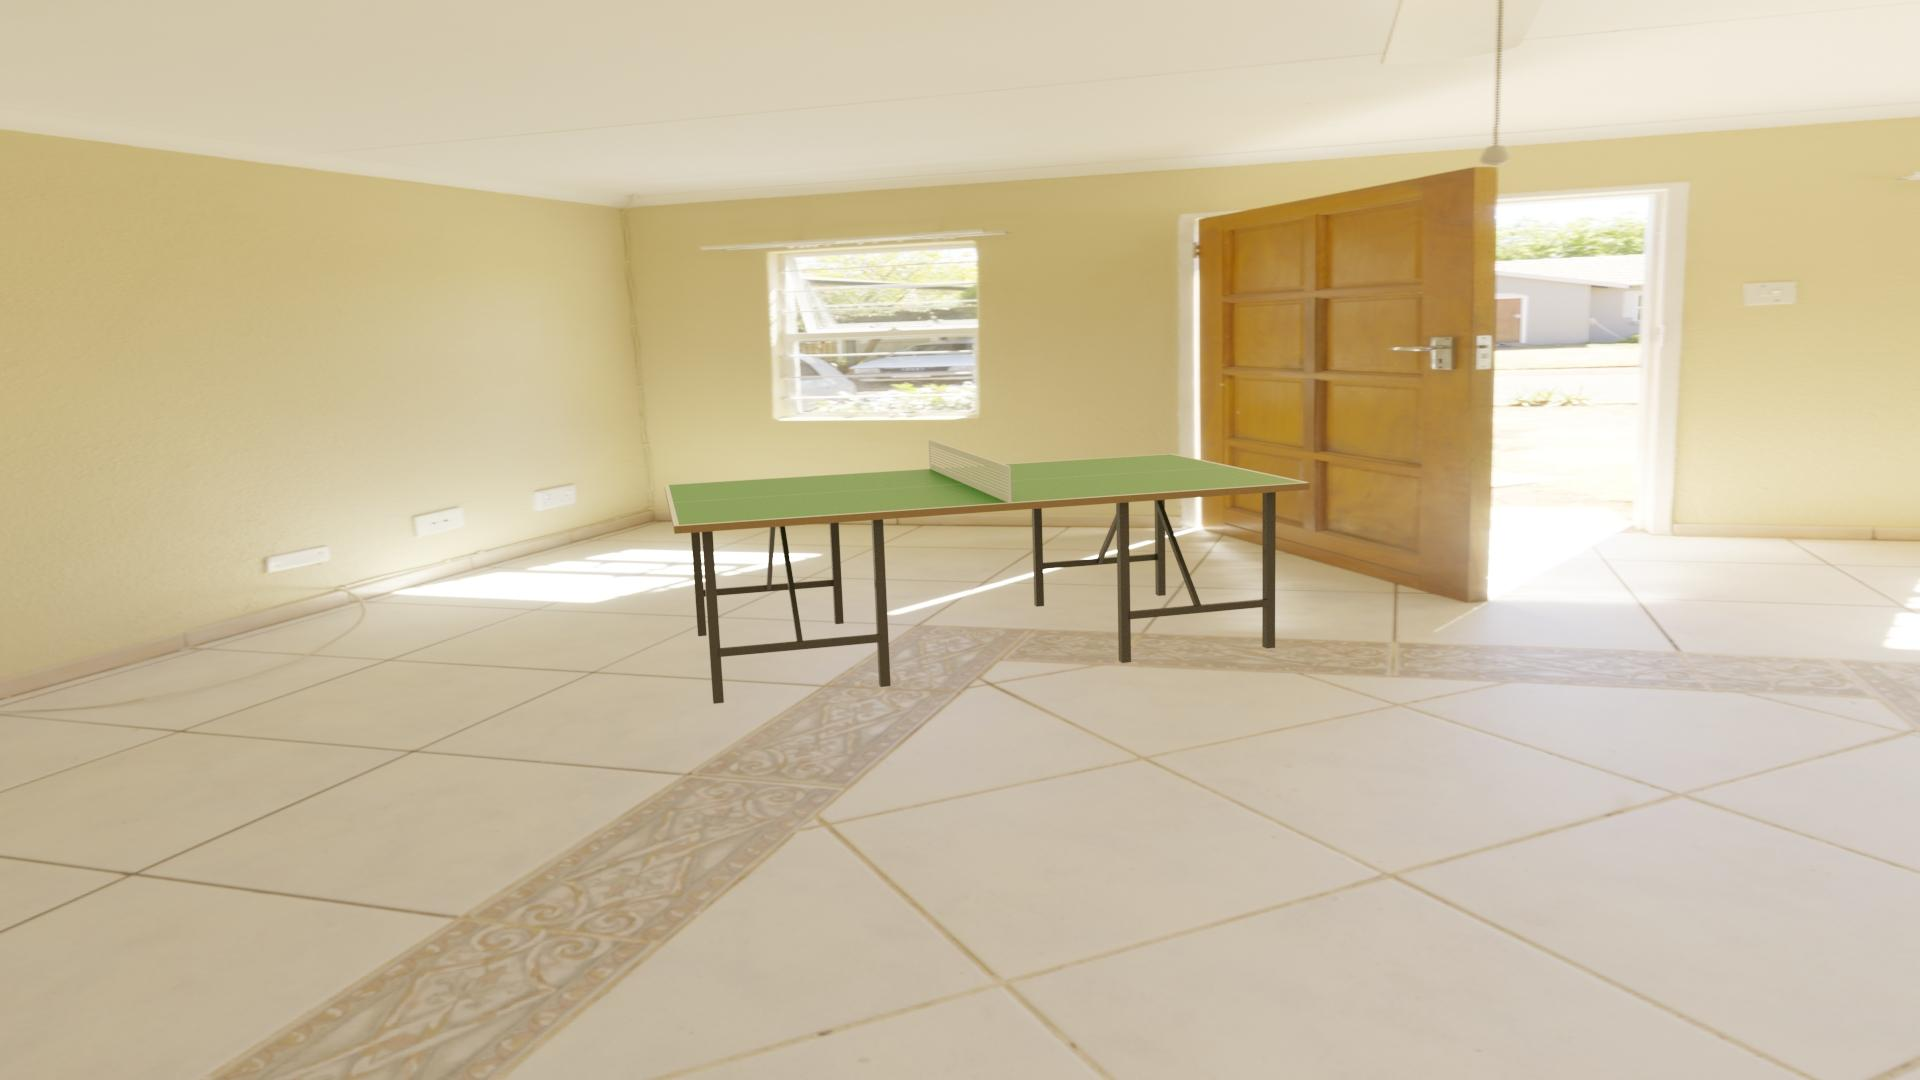table: (669, 454, 1303, 525)
